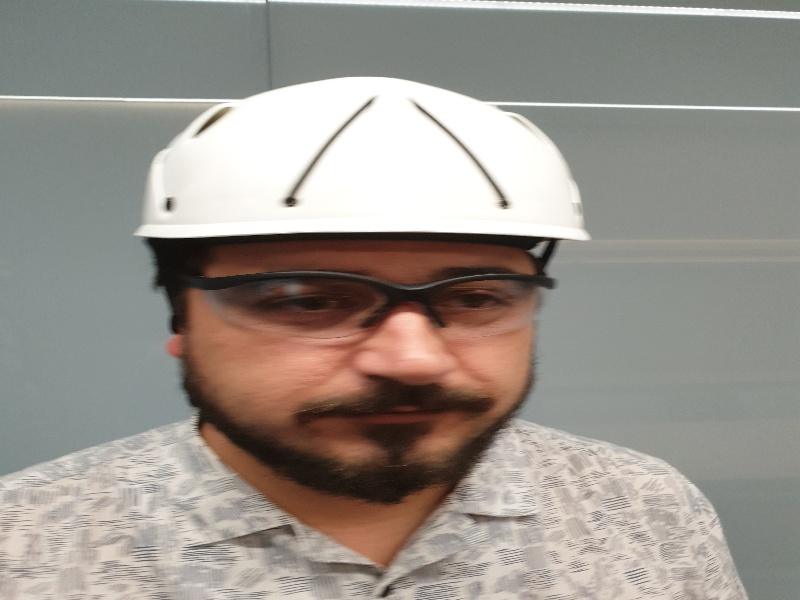Baret: (146, 78, 587, 243)
Gozluk: (182, 271, 554, 338)
